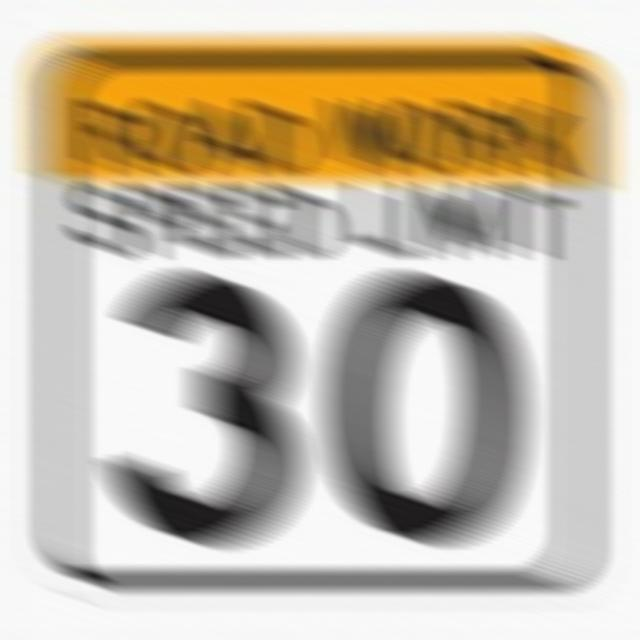speedLimit30: (44, 42, 613, 601)
